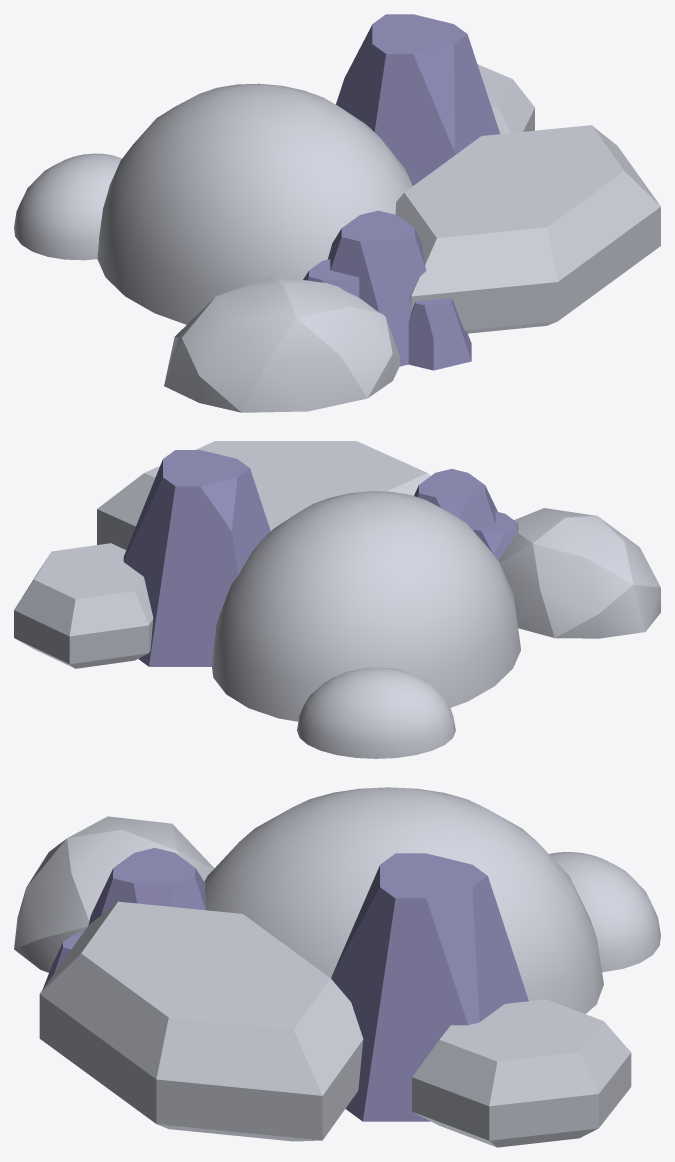
The model's file is SnowSmall.fbx.
The picture shows the model from 3 angles, top to bottom: view 1: azimuth 30°, elevation 25°; view 2: azimuth 150°, elevation 25°; view 3: azimuth 270°, elevation 25°; orthographic projection. The views are drawn at different scales.
Visible parts, largest first — view 1: mergedBlocks; view 2: mergedBlocks; view 3: mergedBlocks.
Part boxes in pixels (x1=…): mergedBlocks: x1=14, y1=14, x2=660, y2=412; mergedBlocks: x1=14, y1=441, x2=660, y2=758; mergedBlocks: x1=14, y1=787, x2=660, y2=1147.
Bounding box in the file's own units: 28.18 × 9 × 26.48.
